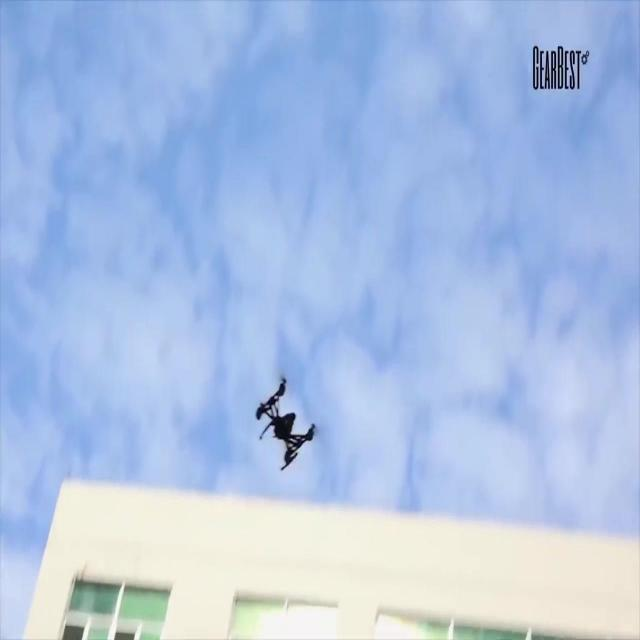UAV: (256, 376, 320, 470)
